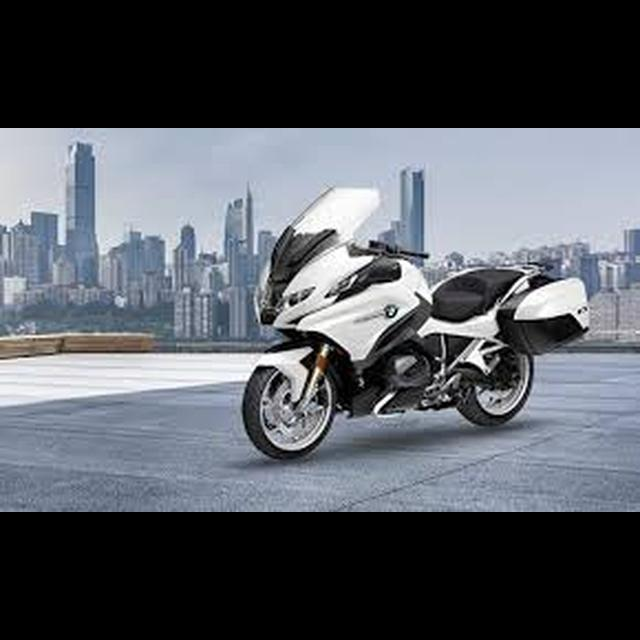motorcycle: (239, 185, 596, 466)
